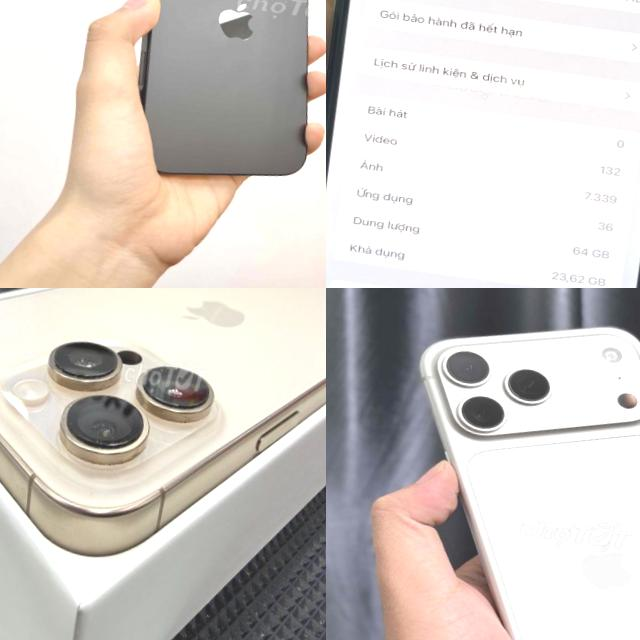gen_16: (0, 288, 326, 594)
gen_17: (379, 299, 640, 640)
gen_x_xs: (326, 0, 640, 288)
